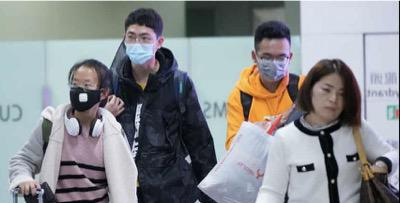with_mask: (124, 28, 156, 67), (68, 75, 100, 112), (256, 49, 290, 83)
without_mask: (309, 79, 347, 123)
